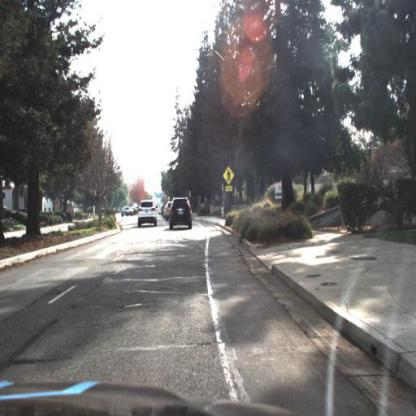car: (169, 197, 194, 232), (137, 199, 158, 230), (164, 201, 174, 224), (121, 207, 134, 217)
